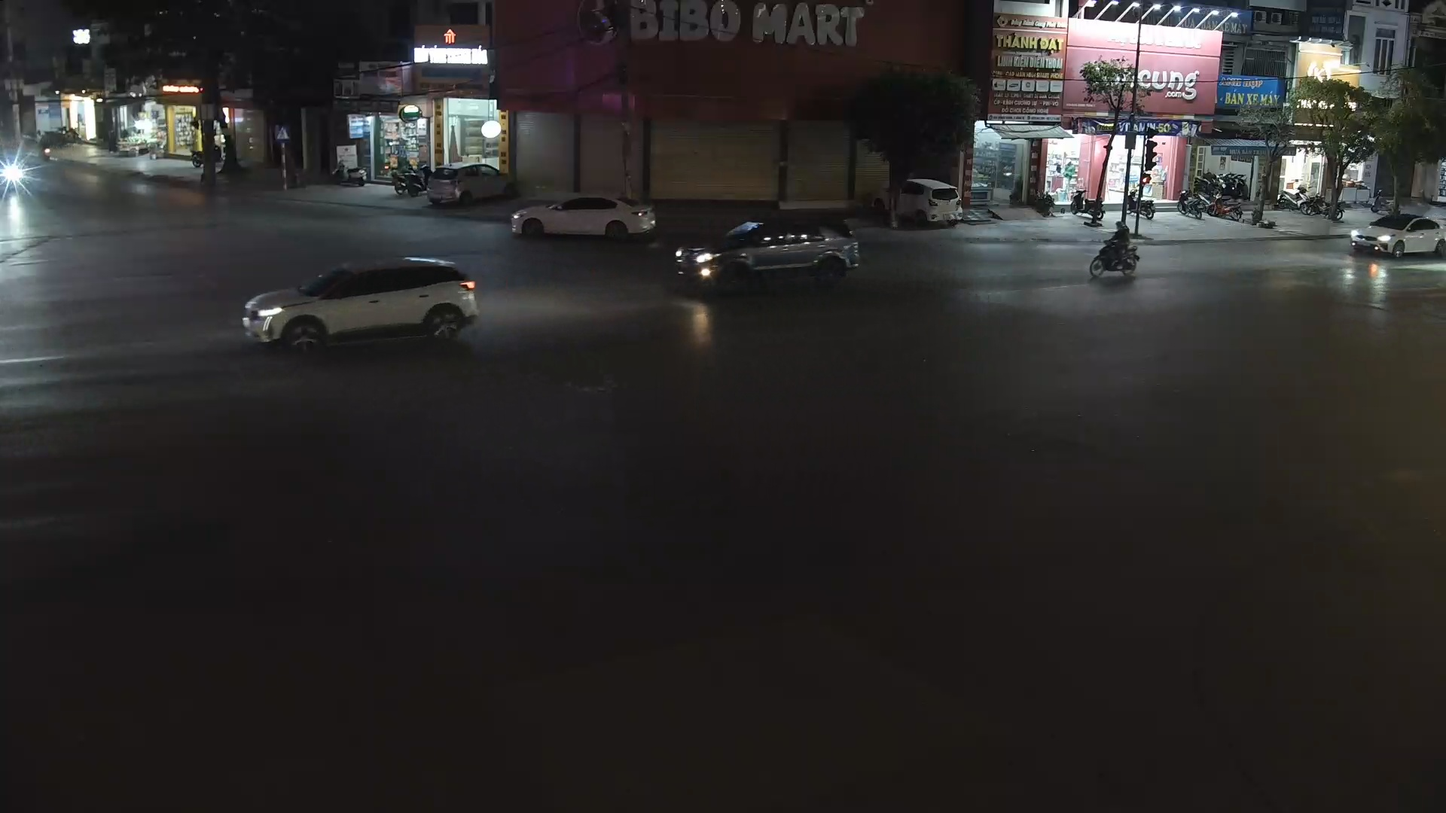car: (239, 255, 480, 357), (672, 225, 862, 296), (509, 193, 657, 240), (1348, 209, 1445, 262)
motorbike: (1086, 218, 1143, 285)
